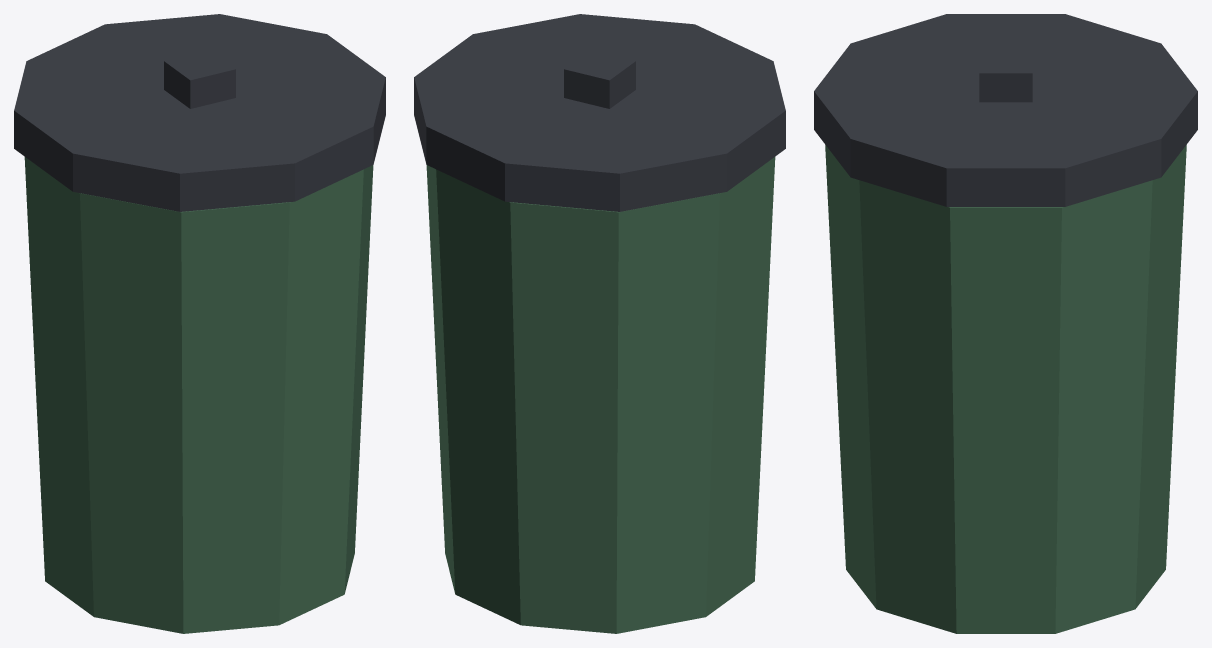
Rendered from trash_can.glb.
3 views of the same model, side by side, from view 1: azimuth 30°, elevation 25°; view 2: azimuth 150°, elevation 25°; view 3: azimuth 270°, elevation 25° (orthographic).
Visible parts, largest first — view 1: trash_can; view 2: trash_can; view 3: trash_can.
Part boxes in pixels (box(x1,y1,x2,y2)): trash_can: box(14, 14, 385, 633); trash_can: box(414, 14, 785, 633); trash_can: box(814, 14, 1197, 633).
Size of the model in its own units: 0.6848 by 1.05 by 0.72.
